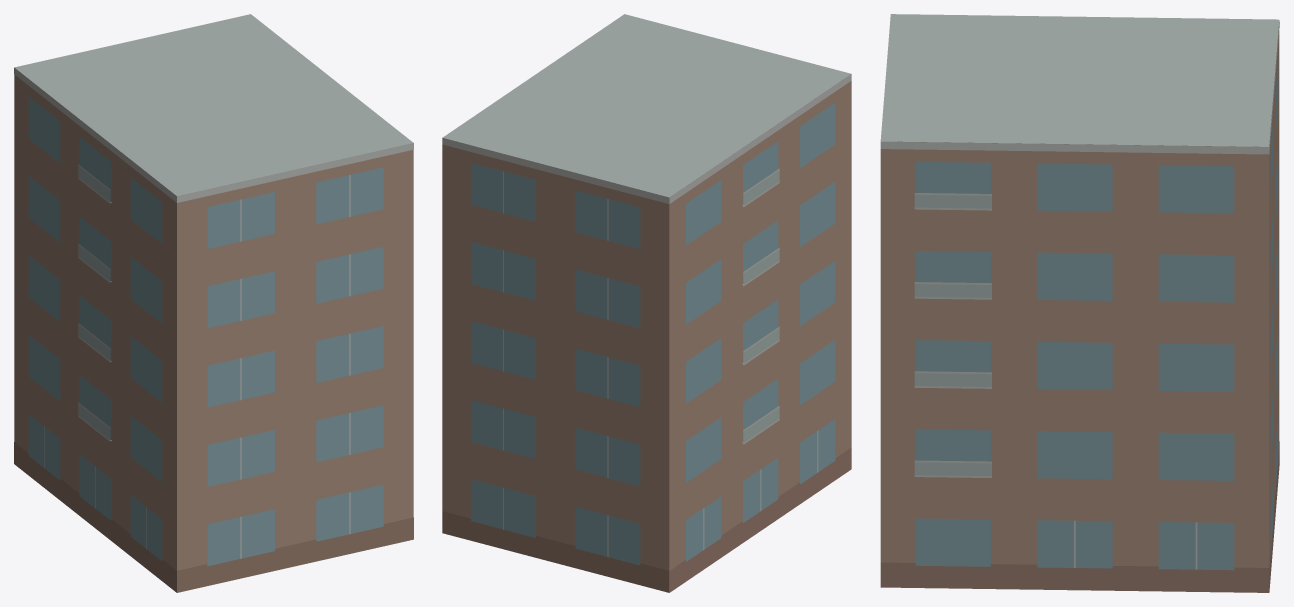
File: survey-upis-32904214.glb
The picture shows the model from 3 angles, left to right: view 1: azimuth 30°, elevation 25°; view 2: azimuth 150°, elevation 25°; view 3: azimuth 270°, elevation 25°; orthographic projection. The views are drawn at different scales.
Visible parts, largest first — view 1: survey-upis-32904214.tmp; view 2: survey-upis-32904214.tmp; view 3: survey-upis-32904214.tmp.
Part boxes in pixels (x1=…): survey-upis-32904214.tmp: x1=14, y1=14, x2=413, y2=592; survey-upis-32904214.tmp: x1=442, y1=14, x2=851, y2=592; survey-upis-32904214.tmp: x1=880, y1=14, x2=1279, y2=592.
Size of the model in its own units: 9.21 by 14.4 by 11.68.
